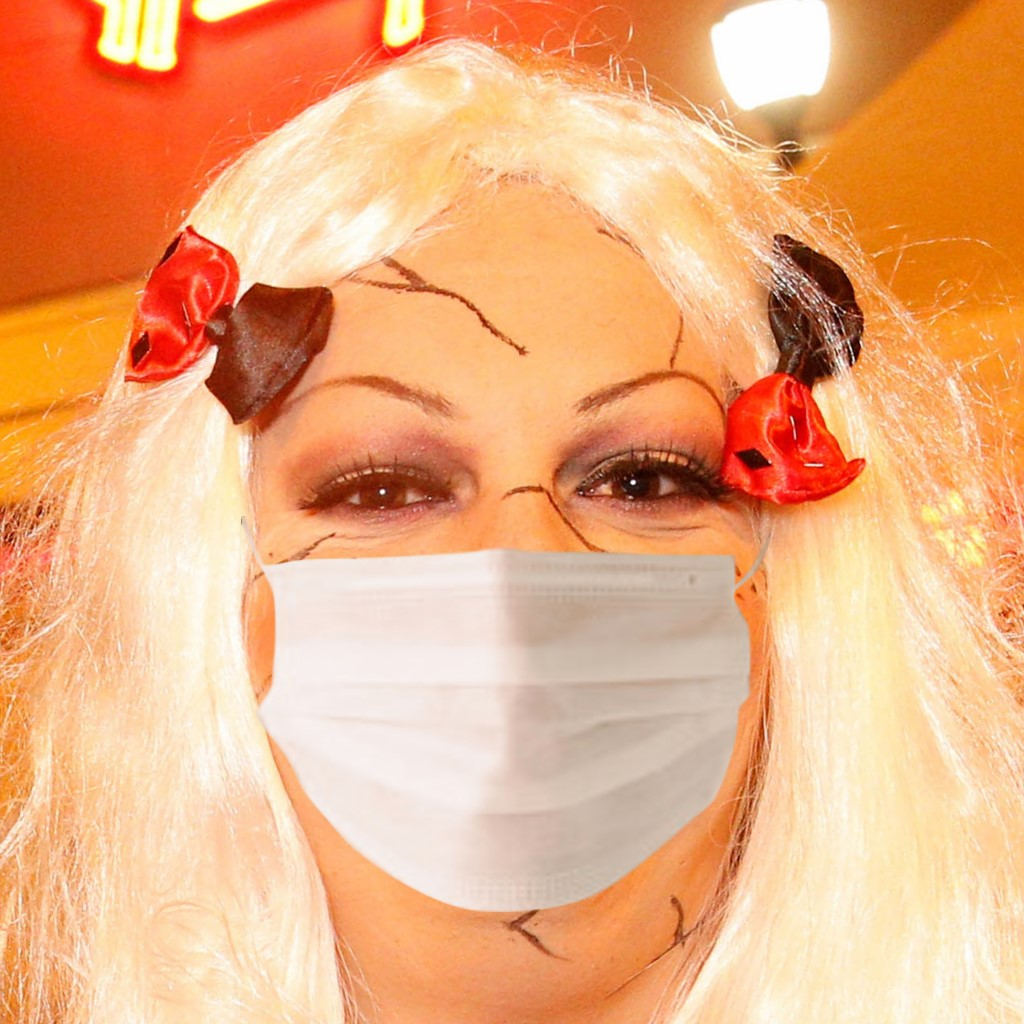con_mascara: (222, 139, 781, 968)
